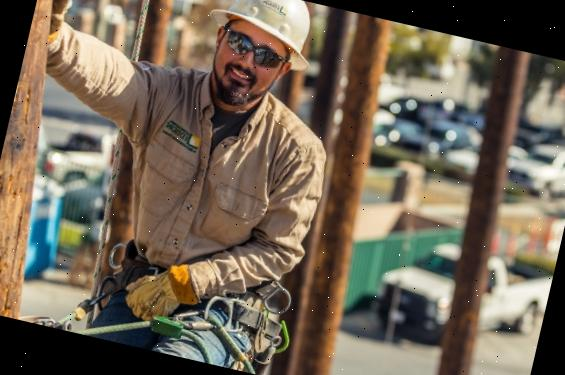helmet: (200, 0, 328, 71)
wear: (95, 79, 334, 302)
